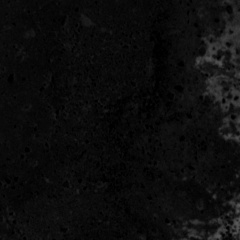Vegetation: (208, 76, 240, 106), (204, 39, 240, 65), (214, 217, 240, 238), (220, 17, 240, 42)
